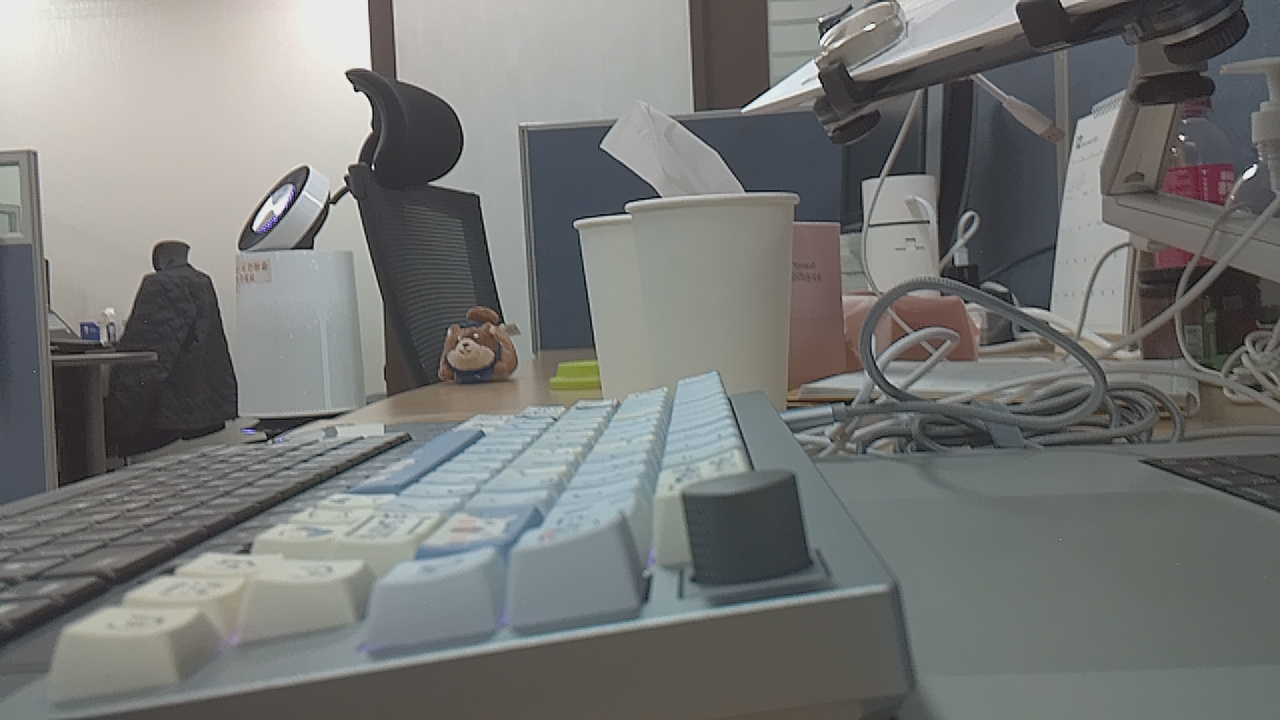cuteDog: (426, 300, 537, 399)
